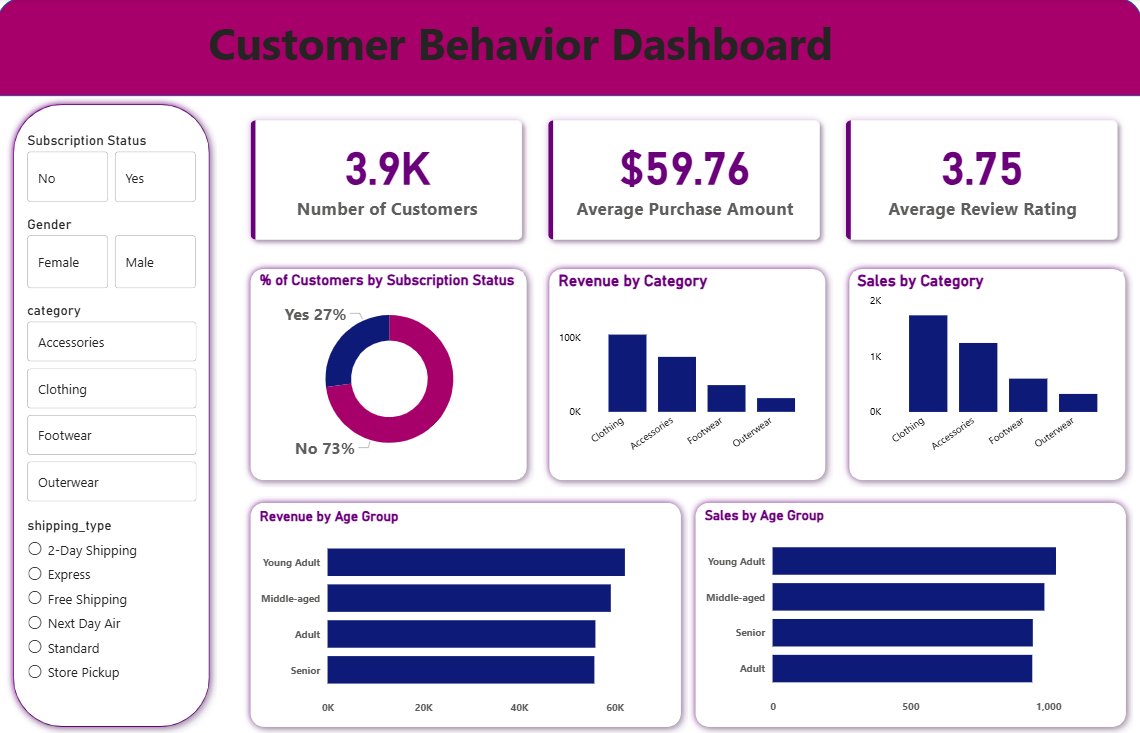

This screenshot's page, from the dashboard's own definition file:
{"tool":"powerbi","page":{"name":"Page 1","canvas":[1400,900],"ordinal":0},"visuals":[{"type":"cardVisual","fields":{"Data":["public customer.Number of Customers","public customer.Average Purchase Amount","public customer.Average Review Rating"]},"box":[281.3,120.8,1118.9,204.8],"z":0},{"type":"shape","box":[0,0,1400.3,120.1],"z":1000},{"type":"textbox","box":[0,13.7,1280.3,90.6],"z":2000},{"type":"shape","box":[300.8,321.8,355.7,276.2],"z":3000},{"type":"donutChart","title":"% of Customers by Subscription Status","fields":{"Category":["public customer.subscription_status"],"Y":["CountNonNull(public customer.customer_id)"]},"box":[315.8,335.4,327.2,241.6],"z":4000},{"type":"shape","box":[667,321.8,355.7,276.2],"z":5000},{"type":"shape","box":[1033.3,321.8,355.7,276.2],"z":6000},{"type":"clusteredColumnChart","title":"Revenue by Category","fields":{"Category":["public customer.category"],"Y":["Sum(public customer.purchase_amount)"]},"box":[681.7,334.8,325.6,241.5],"z":7000},{"type":"clusteredColumnChart","title":"Sales by Category","fields":{"Category":["public customer.category"],"Y":["CountNonNull(public customer.customer_id)"]},"box":[1046.8,335.4,330.2,241.6],"z":8000},{"type":"shape","box":[10.7,120.8,258.3,779.6],"z":9000},{"type":"advancedSlicerVisual","fields":{"Values":["public customer.subscription_status"]},"box":[32.1,163.6,217.1,91.7],"z":10000},{"type":"advancedSlicerVisual","fields":{"Values":["public customer.gender"]},"box":[32.1,266,217.1,94.8],"z":11000},{"type":"advancedSlicerVisual","fields":{"Values":["public customer.category"]},"box":[32.1,371.4,217.1,252.2],"z":12000},{"type":"listSlicer","fields":{"Values":["public customer.shipping_type"]},"box":[32.1,634.3,217.1,224.7],"z":13000},{"type":"shape","box":[301.1,608.4,544.2,292],"z":13500},{"type":"clusteredBarChart","title":"Revenue by Age Group","fields":{"Y":["Sum(public customer.purchase_amount)"],"Category":["public customer.age_group"]},"box":[316.4,623.6,513.6,262.9],"z":14000},{"type":"shape","box":[845.3,608.4,544.2,292],"z":14001},{"type":"clusteredBarChart","title":"Sales by Age Group","fields":{"Category":["public customer.age_group"],"Y":["CountNonNull(public customer.customer_id)"]},"box":[860.6,622.1,513.6,262.9],"z":14002}]}

Visuals, with their boxes in screenshot pixels (x1, y1, x2, y2), scaled from the page's 1400x900 canvas onto the 1140x733 screenshot:
cardVisual - public customer.Number of Customers x public customer.Average Purchase Amount: {"x1": 229, "y1": 98, "x2": 1139, "y2": 265}
shape: {"x1": 0, "y1": 0, "x2": 1139, "y2": 98}
textbox: {"x1": 0, "y1": 11, "x2": 1043, "y2": 85}
shape: {"x1": 245, "y1": 262, "x2": 535, "y2": 487}
"% of Customers by Subscription Status" donutChart: {"x1": 257, "y1": 273, "x2": 524, "y2": 470}
shape: {"x1": 543, "y1": 262, "x2": 833, "y2": 487}
shape: {"x1": 841, "y1": 262, "x2": 1131, "y2": 487}
"Revenue by Category" clusteredColumnChart: {"x1": 555, "y1": 273, "x2": 820, "y2": 469}
"Sales by Category" clusteredColumnChart: {"x1": 852, "y1": 273, "x2": 1121, "y2": 470}
shape: {"x1": 9, "y1": 98, "x2": 219, "y2": 732}
advancedSlicerVisual - public customer.subscription_status: {"x1": 26, "y1": 133, "x2": 203, "y2": 208}
advancedSlicerVisual - public customer.gender: {"x1": 26, "y1": 217, "x2": 203, "y2": 294}
advancedSlicerVisual - public customer.category: {"x1": 26, "y1": 302, "x2": 203, "y2": 508}
listSlicer - public customer.shipping_type: {"x1": 26, "y1": 517, "x2": 203, "y2": 700}
shape: {"x1": 245, "y1": 496, "x2": 688, "y2": 732}
"Revenue by Age Group" clusteredBarChart: {"x1": 258, "y1": 508, "x2": 676, "y2": 722}
shape: {"x1": 688, "y1": 496, "x2": 1131, "y2": 732}
"Sales by Age Group" clusteredBarChart: {"x1": 701, "y1": 507, "x2": 1119, "y2": 721}
